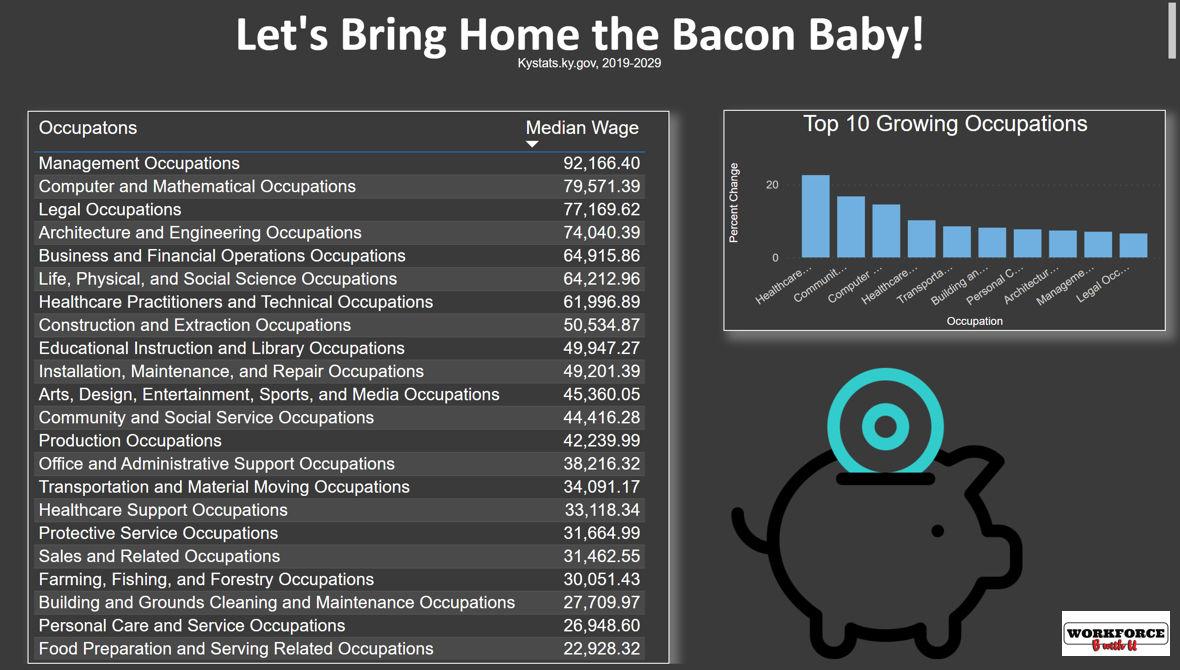

The dashboard page shown, as its layout file describes it:
{"tool":"powerbi","page":{"name":"Slide 7 - Wages","canvas":[1280,720],"ordinal":7},"visuals":[{"type":"tableEx","fields":{"Values":["Salaries.SOC Title (Occupation Title)","Sum(Salaries.Median Wage)"]},"box":[32.5,122,694.4,598],"z":0},{"type":"image","box":[767.6,395.1,365.4,324.9],"z":1000},{"type":"textbox","box":[0,0,1279.7,72.8],"z":2000},{"type":"columnChart","title":"Top 10 Growing Occupations","fields":{"Category":["Local Workforce Area.Occupational Title"],"Y":["Sum(Local Workforce Area.Percent Change)"]},"box":[785.5,121.4,478.4,239.2],"z":3000},{"type":"textbox","box":[490.3,58.3,299.9,29.8],"z":4000}]}

Visuals, with their boxes in screenshot pixels (x1, y1, x2, y2), scaled from the page's 1280x720 canvas onto the 1180x670 screenshot:
tableEx - Salaries.SOC Title (Occupation Title) x Sum(Salaries.Median Wage): l=30, t=114, r=670, b=669
image: l=708, t=368, r=1044, b=669
textbox: l=0, t=0, r=1179, b=68
"Top 10 Growing Occupations" columnChart: l=724, t=113, r=1165, b=336
textbox: l=452, t=54, r=728, b=82
